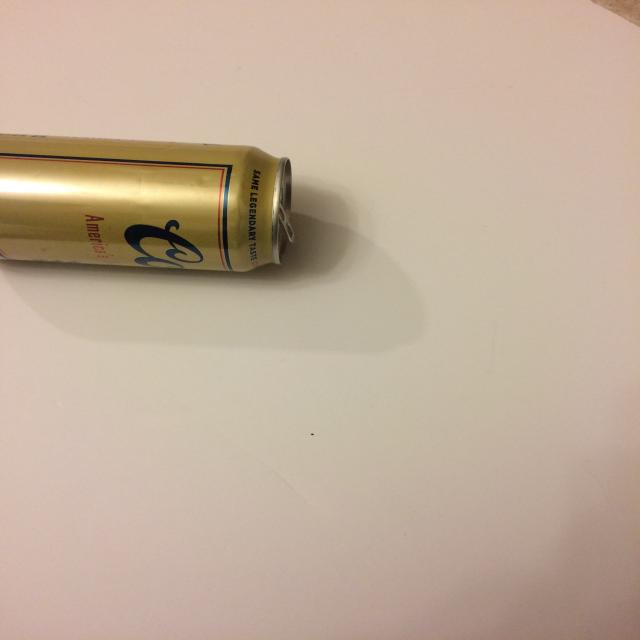Metal: (0, 116, 306, 294)
